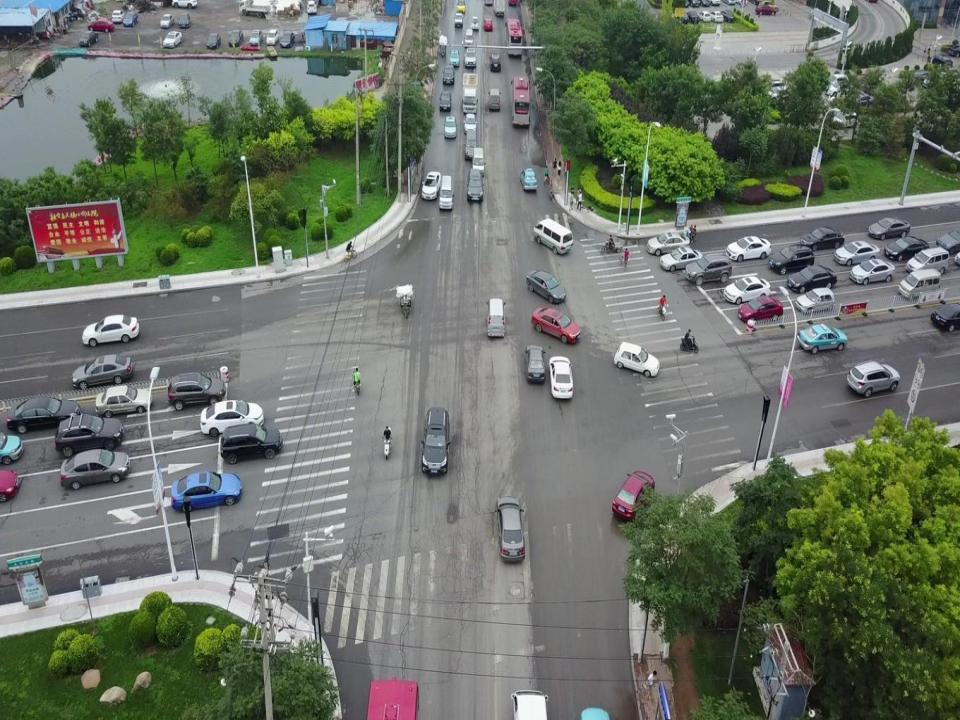bus: (362, 676, 422, 720), (509, 74, 530, 126), (504, 18, 522, 55)
car: (53, 412, 121, 458), (59, 449, 131, 490), (170, 471, 242, 511), (218, 424, 283, 464), (198, 399, 262, 438), (6, 396, 81, 429), (167, 372, 226, 411), (611, 468, 655, 520), (495, 493, 525, 562), (846, 360, 901, 397), (420, 407, 450, 474), (70, 355, 132, 387), (93, 385, 151, 417), (81, 314, 139, 346), (530, 306, 580, 342), (684, 252, 732, 285), (614, 342, 659, 376), (797, 323, 847, 353), (510, 686, 552, 720), (722, 276, 772, 304), (768, 244, 814, 274), (787, 265, 838, 292), (884, 234, 930, 262), (525, 271, 566, 302), (726, 234, 770, 262), (737, 297, 783, 323), (834, 239, 880, 265), (850, 257, 894, 283), (800, 226, 845, 251), (659, 246, 703, 271), (548, 356, 573, 399), (866, 216, 910, 240), (796, 288, 836, 314), (646, 232, 692, 254), (930, 302, 960, 333), (524, 343, 546, 381), (0, 431, 23, 463), (465, 167, 484, 202), (936, 225, 960, 252), (420, 170, 441, 199), (0, 469, 18, 502), (519, 167, 537, 192), (86, 17, 114, 33), (162, 29, 182, 49), (462, 113, 479, 135), (77, 30, 98, 47), (442, 116, 456, 137), (205, 32, 221, 50), (279, 30, 295, 48), (438, 89, 451, 111), (227, 29, 243, 46), (464, 46, 476, 67), (489, 52, 501, 72), (122, 11, 138, 26), (448, 49, 460, 68), (248, 29, 262, 45), (177, 12, 191, 28), (442, 64, 453, 84), (160, 12, 174, 26), (306, 0, 317, 14), (111, 10, 123, 22), (455, 0, 466, 12), (470, 16, 480, 29), (482, 18, 492, 30)
truck: (460, 71, 479, 113), (239, 0, 271, 17)
van: (533, 218, 573, 254), (898, 268, 944, 298), (904, 246, 949, 274), (485, 296, 507, 337), (438, 174, 454, 210), (471, 146, 485, 176), (464, 129, 478, 159), (487, 88, 501, 110), (265, 28, 279, 45), (453, 10, 464, 28), (464, 28, 474, 47)
